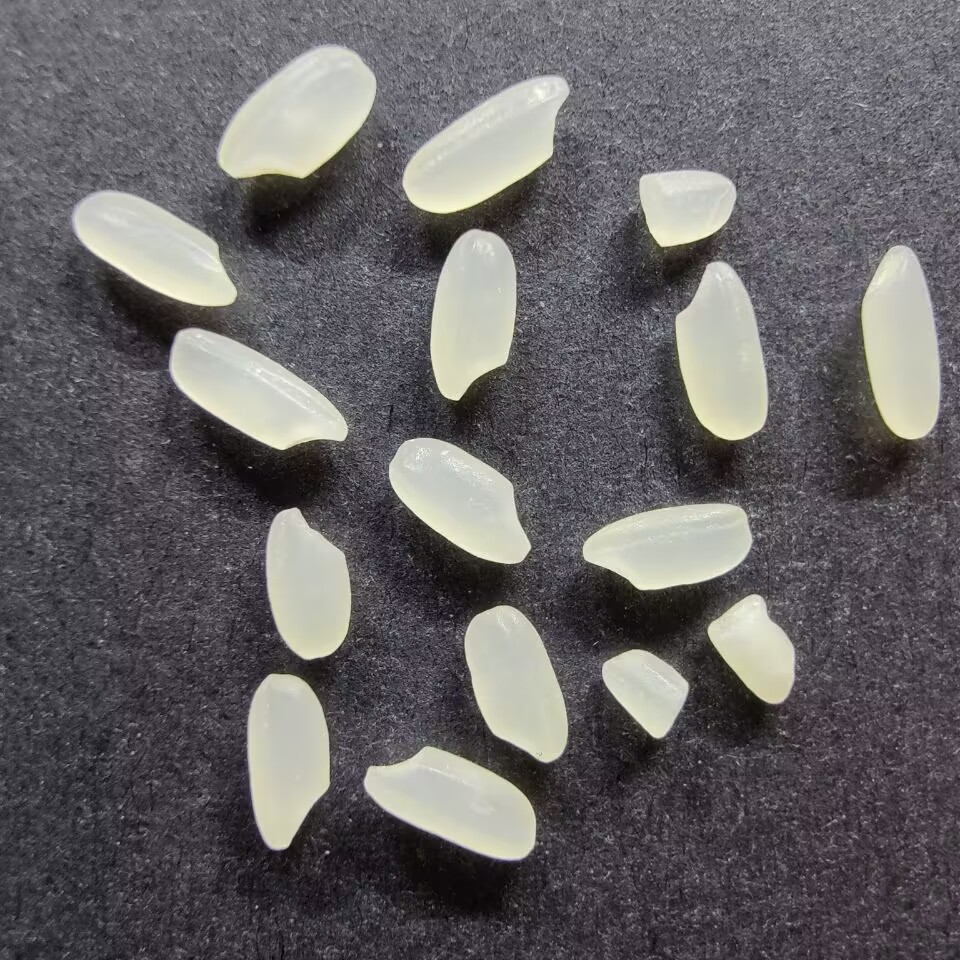broken: (705, 592, 799, 705), (599, 647, 689, 740), (637, 168, 739, 248)
rice: (399, 73, 570, 215), (168, 325, 349, 451), (213, 44, 379, 179), (360, 744, 538, 862), (71, 188, 240, 310), (386, 436, 532, 566), (673, 259, 769, 441), (461, 603, 569, 764), (858, 243, 943, 440), (427, 228, 519, 401), (244, 672, 331, 853), (580, 501, 752, 592), (263, 506, 351, 660)
